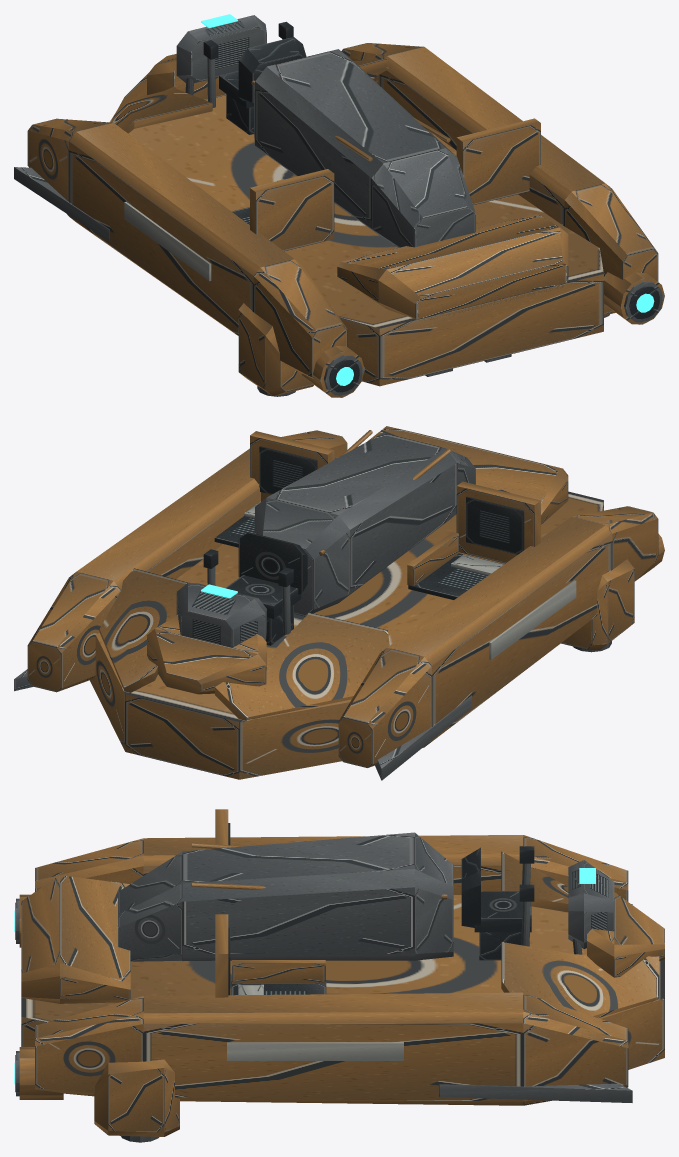
Rendered from lpc.glb.
3 renders of one model, top to bottom at view 1: azimuth 30°, elevation 25°; view 2: azimuth 150°, elevation 25°; view 3: azimuth 270°, elevation 25°, orthographic. The views are drawn at different scales.
Visible parts, largest first — view 1: STLPC_Hull; view 2: STLPC_Hull; view 3: STLPC_Hull.
Part boxes in pixels (<box>): STLPC_Hull: <box>14,14,664,397</box>; STLPC_Hull: <box>14,426,664,780</box>; STLPC_Hull: <box>14,809,664,1142</box>.
Size of the model in its own units: 4.82 by 2.46 by 7.08.
Materials: 5 (4 with a texture image).
